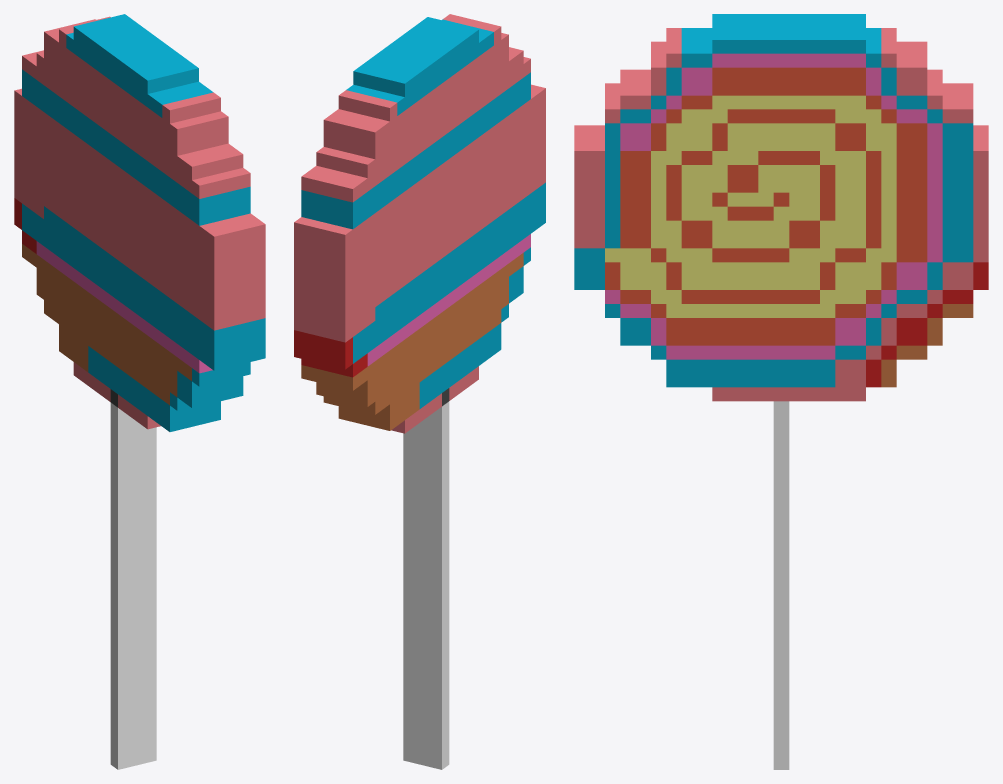
Rendered from Eruption-14.obj.
3 views of the same model, side by side, from view 1: azimuth 30°, elevation 25°; view 2: azimuth 150°, elevation 25°; view 3: azimuth 270°, elevation 25° (orthographic). The views are drawn at different scales.
Bounding box in the file's own units: 0.4 × 5.3 × 2.7.
Materials: 1 (1 with a texture image).
